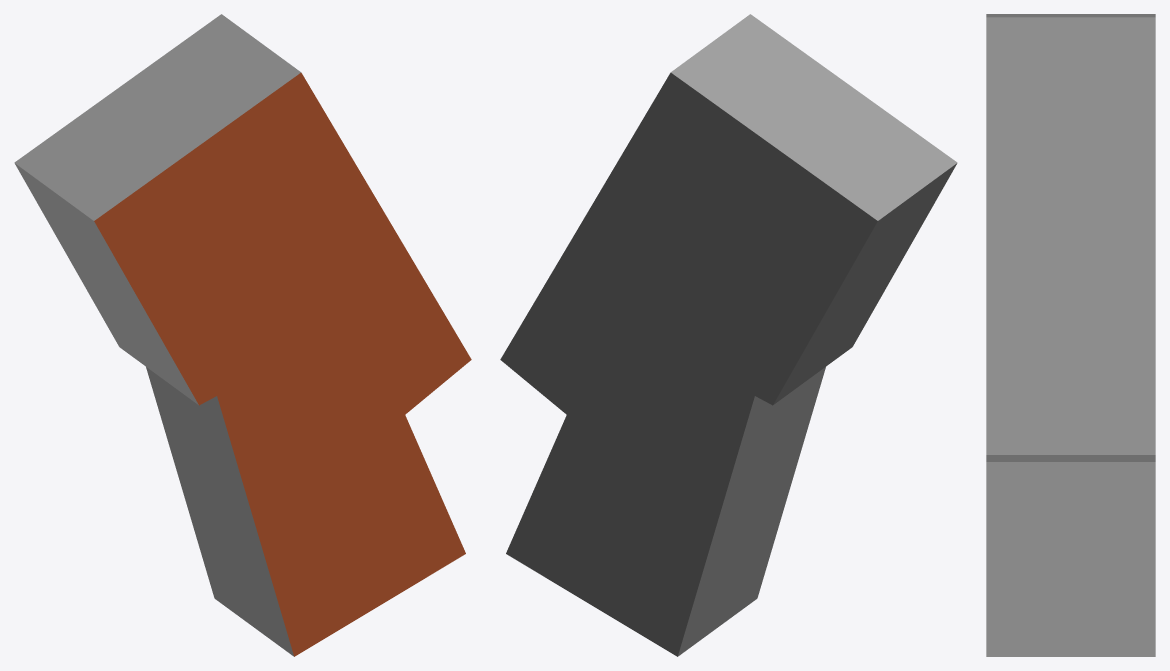
File: construction_1758_assumed_A_Casa_h6m.obj
3 renders of one model, left to right at view 1: azimuth 30°, elevation 25°; view 2: azimuth 150°, elevation 25°; view 3: azimuth 270°, elevation 25°, orthographic. The views are drawn at different scales.
Parts seen in each view (by area): view 1: construction_1758_assumed_A_Casa; view 2: construction_1758_assumed_A_Casa; view 3: construction_1758_assumed_A_Casa.
Part boxes in pixels (x1,y1,x2,y2): construction_1758_assumed_A_Casa: (14,14,471,656); construction_1758_assumed_A_Casa: (500,14,957,656); construction_1758_assumed_A_Casa: (986,14,1155,656).
Bounding box in the file's own units: 16.4 × 24.18 × 6.
